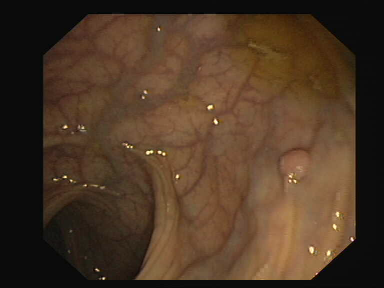polyp: (271, 146, 314, 181)
